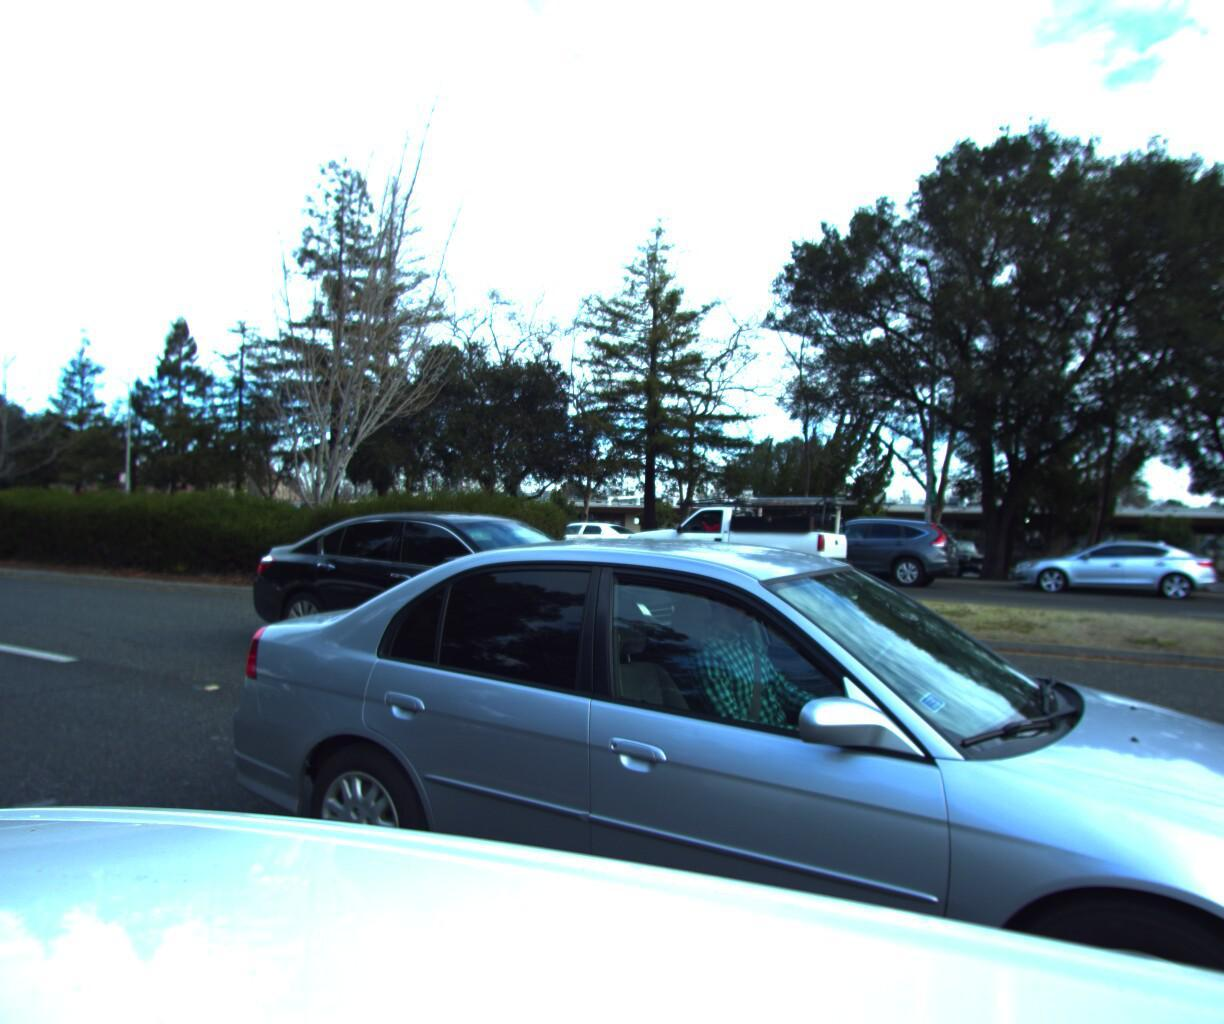car: (174, 523, 1224, 1024), (230, 495, 703, 699), (611, 499, 834, 587), (709, 502, 924, 580), (763, 511, 970, 587), (1001, 529, 1222, 598), (507, 513, 665, 567)
